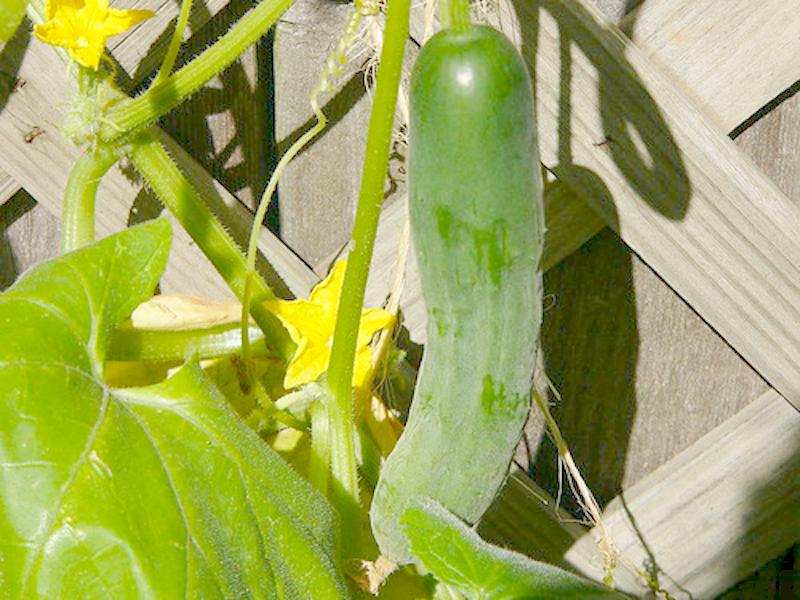Cucumber: (370, 29, 546, 594)
